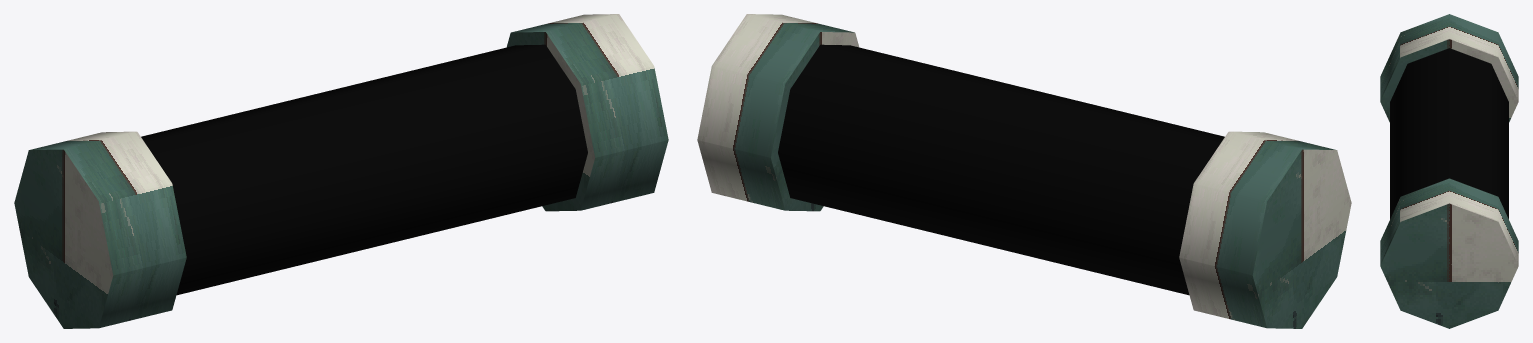
Rendered from fuse.glb.
3 views of the same model, side by side, from view 1: azimuth 30°, elevation 25°; view 2: azimuth 150°, elevation 25°; view 3: azimuth 270°, elevation 25° (orthographic). The views are drawn at different scales.
Visible parts, largest first — view 1: fuse; view 2: fuse; view 3: fuse.
Part boxes in pixels (box(x1,y1,x2,y2)): fuse: box(14, 14, 668, 328); fuse: box(697, 14, 1351, 328); fuse: box(1380, 14, 1518, 328).
Bounding box in the file's own units: 0.068 × 0.021 × 0.021.
